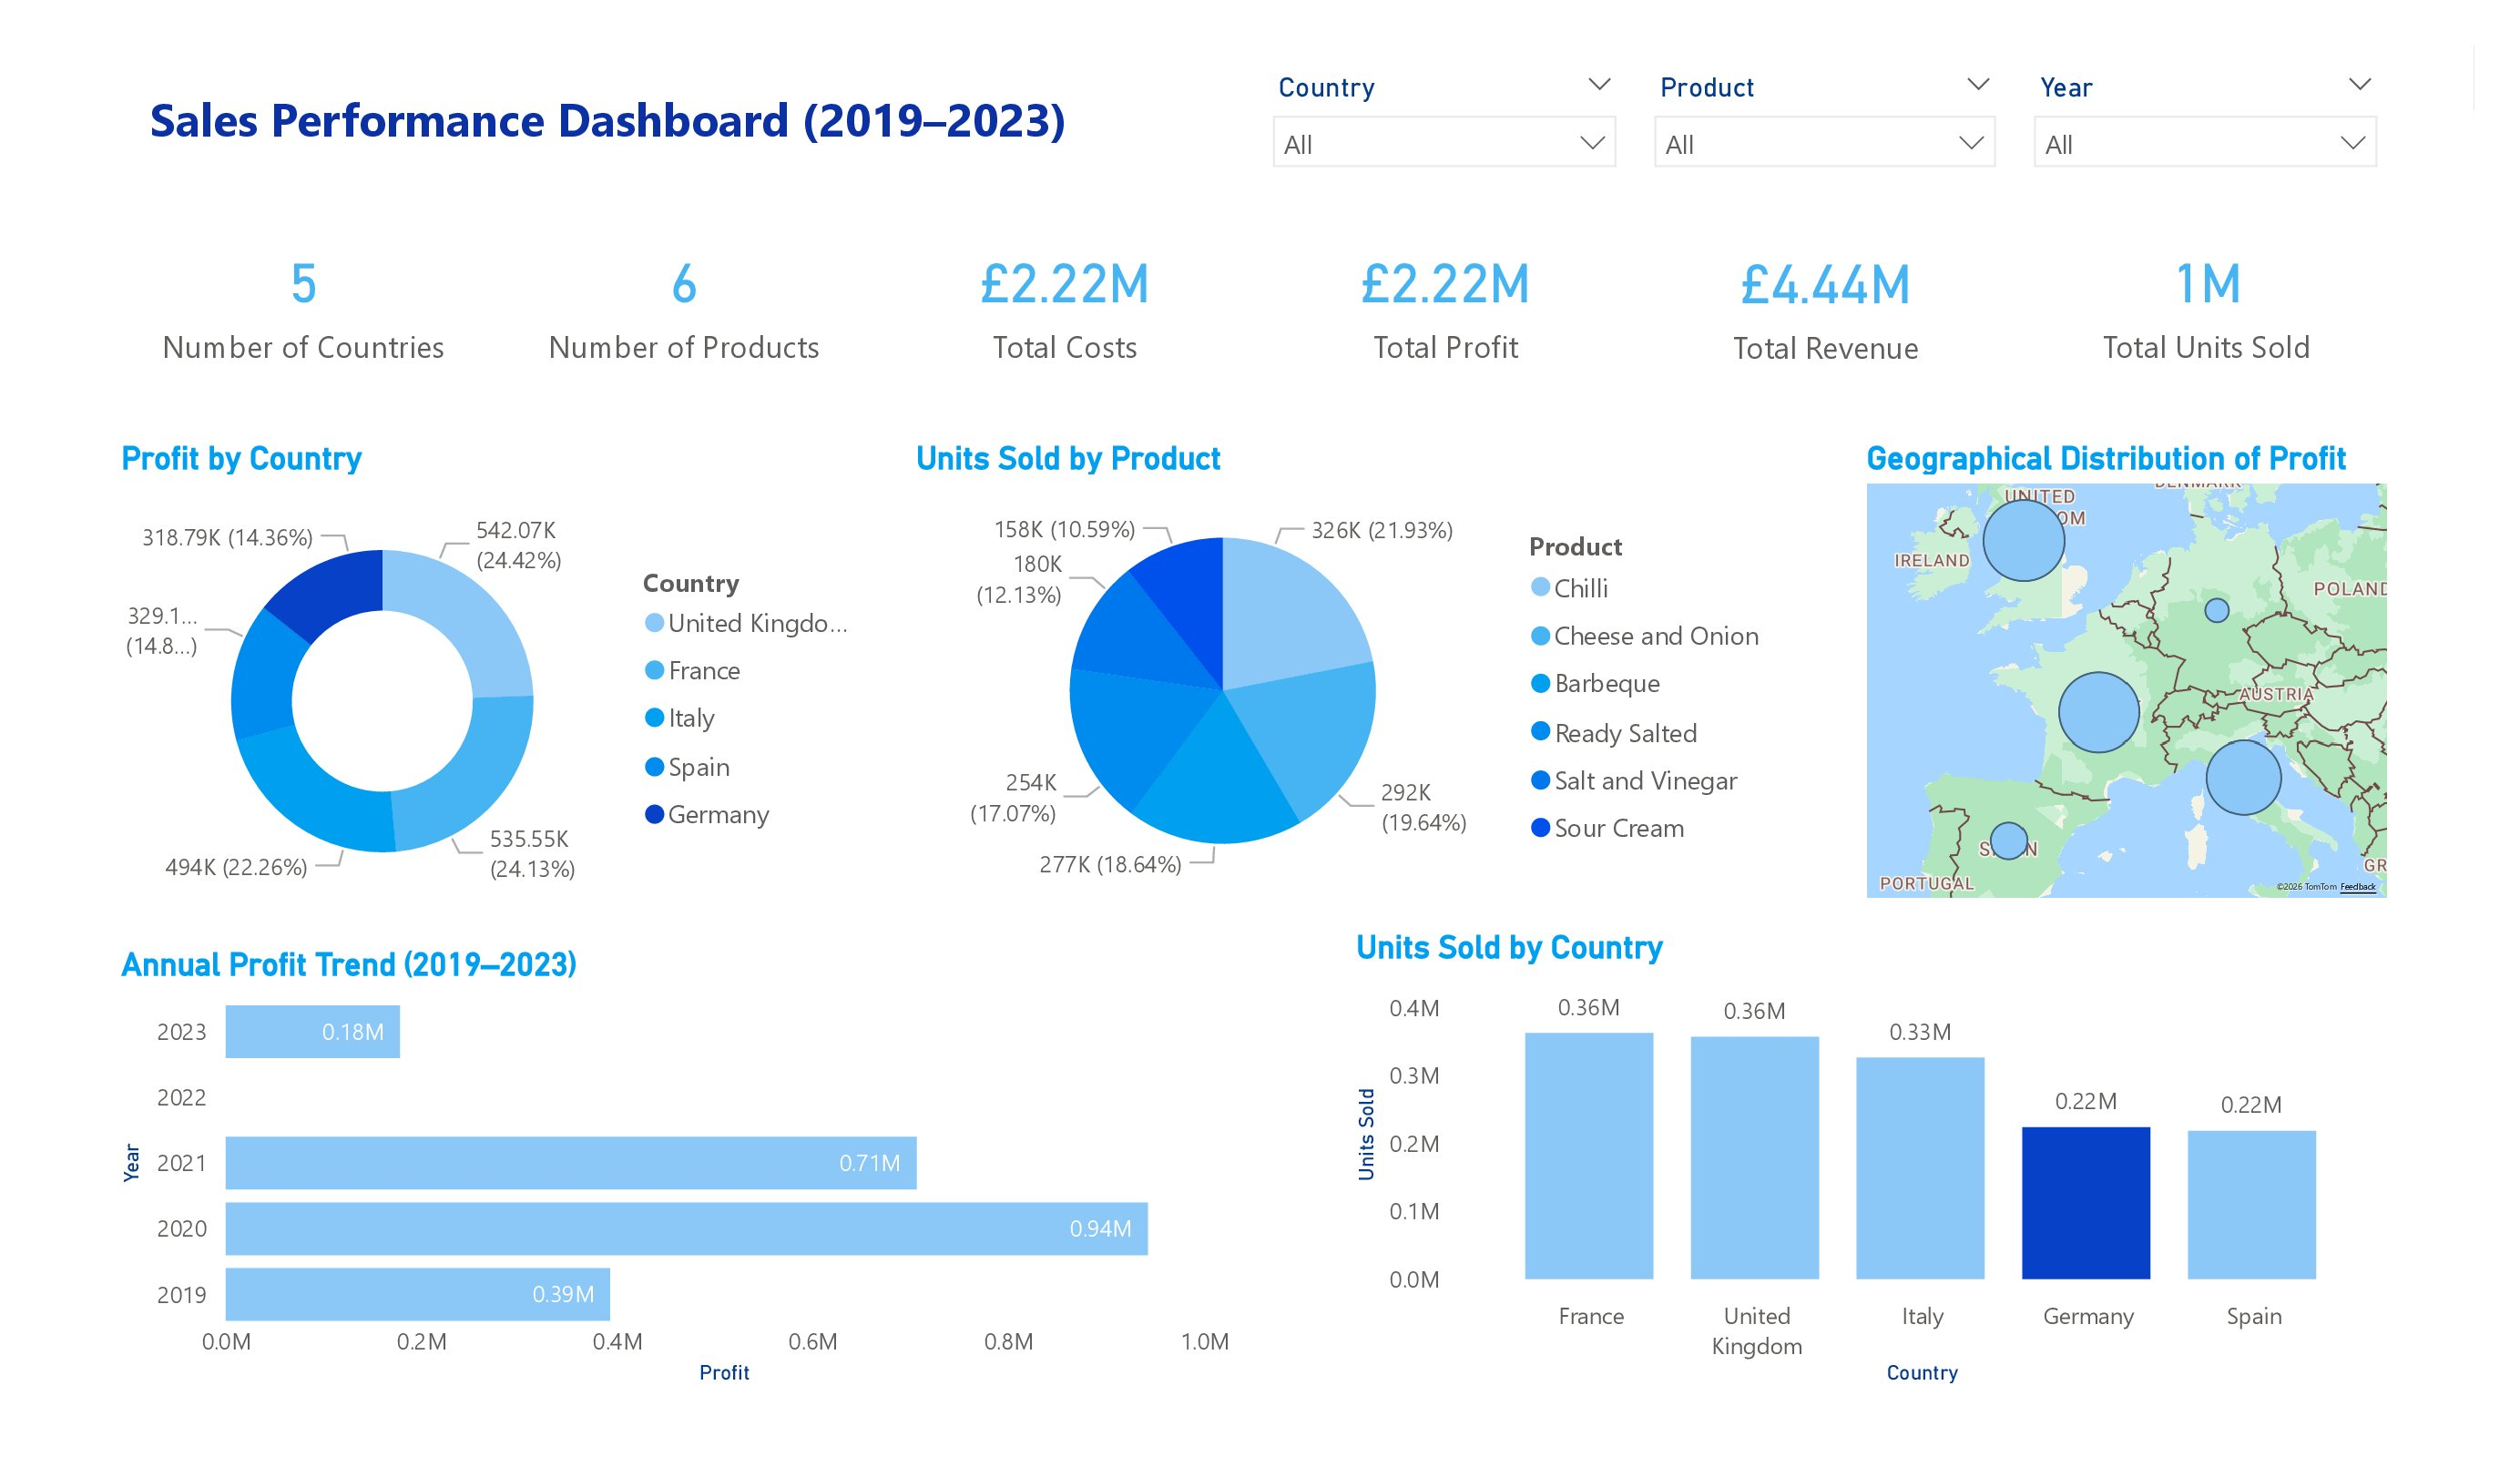

What the dashboard file says about the page in this screenshot:
{"tool":"powerbi","page":{"name":"Main","canvas":[1280,720],"ordinal":0},"visuals":[{"type":"textbox","box":[35.5,0,523.4,78.3],"z":0},{"type":"card","fields":{"Values":["Data.Number of Countries"]},"box":[9.7,97.7,209.9,77.2],"z":1000},{"type":"card","fields":{"Values":["Data.Number of Products"]},"box":[219.6,97.7,208.7,77.2],"z":2000},{"type":"card","fields":{"Values":["Data.Total Costs"]},"box":[428.3,97.7,208.7,77.2],"z":3000},{"type":"card","fields":{"Values":["Data.Total Profit"]},"box":[639.4,97.7,211.1,77.2],"z":4000},{"type":"card","fields":{"Values":["Data.Total Revenue"]},"box":[850.5,97.7,205.1,77.2],"z":5000},{"type":"card","fields":{"Values":["Data.Total Units Sold"]},"box":[1055.6,97.7,214.7,77.2],"z":6000},{"type":"donutChart","title":"Profit by Country","fields":{"Category":["Data.Country"],"Y":["Sum(Data.Profit)"]},"box":[18.1,206.3,403,228],"z":7000},{"type":"pieChart","title":"Units Sold by Product","fields":{"Y":["Sum(Data.Units Sold)"],"Category":["Data.Product"]},"box":[454.8,206.3,464.5,228],"z":8000},{"type":"barChart","title":"Annual Profit Trend (2019–2023)","fields":{"Category":["Data.Date.Variation.Date Hierarchy.Year"],"Y":["Sum(Data.Profit)"]},"box":[21.7,476.5,604.4,222],"z":9000},{"type":"columnChart","title":"Units Sold by Country","fields":{"Category":["Data.Country"],"Y":["Sum(Data.Units Sold)"]},"box":[687.7,474.1,552.5,214.7],"z":10000},{"type":"slicer","fields":{"Values":["Data.Country"]},"box":[650.1,10.5,200.5,59.9],"z":11000},{"type":"slicer","fields":{"Values":["Data.Product"]},"box":[850.7,10.5,200.5,59.9],"z":12000},{"type":"slicer","fields":{"Values":["Data.Date.Variation.Date Hierarchy.Year"]},"box":[1051.2,10.5,200.5,59.9],"z":13000},{"type":"azureMap","title":"Geographical Distribution of Profit","fields":{"Size":["Sum(Data.Profit)"],"Category":["Data.Country"]},"box":[955.5,206.3,300.4,228],"z":14000}]}

Visuals, with their boxes on the page's 1280x720 design canvas (x1, y1, x2, y2). These are canvas units, not pixel positions in the 2520x1457 screenshot, which may show the page scaled, cropped or inside an application window:
textbox: <bbox>36, 0, 559, 78</bbox>
card - Data.Number of Countries: <bbox>10, 98, 220, 175</bbox>
card - Data.Number of Products: <bbox>220, 98, 428, 175</bbox>
card - Data.Total Costs: <bbox>428, 98, 637, 175</bbox>
card - Data.Total Profit: <bbox>639, 98, 850, 175</bbox>
card - Data.Total Revenue: <bbox>850, 98, 1056, 175</bbox>
card - Data.Total Units Sold: <bbox>1056, 98, 1270, 175</bbox>
"Profit by Country" donutChart: <bbox>18, 206, 421, 434</bbox>
"Units Sold by Product" pieChart: <bbox>455, 206, 919, 434</bbox>
"Annual Profit Trend (2019–2023)" barChart: <bbox>22, 476, 626, 698</bbox>
"Units Sold by Country" columnChart: <bbox>688, 474, 1240, 689</bbox>
slicer - Data.Country: <bbox>650, 10, 851, 70</bbox>
slicer - Data.Product: <bbox>851, 10, 1051, 70</bbox>
slicer - Data.Date.Variation.Date Hierarchy.Year: <bbox>1051, 10, 1252, 70</bbox>
"Geographical Distribution of Profit" azureMap: <bbox>956, 206, 1256, 434</bbox>
